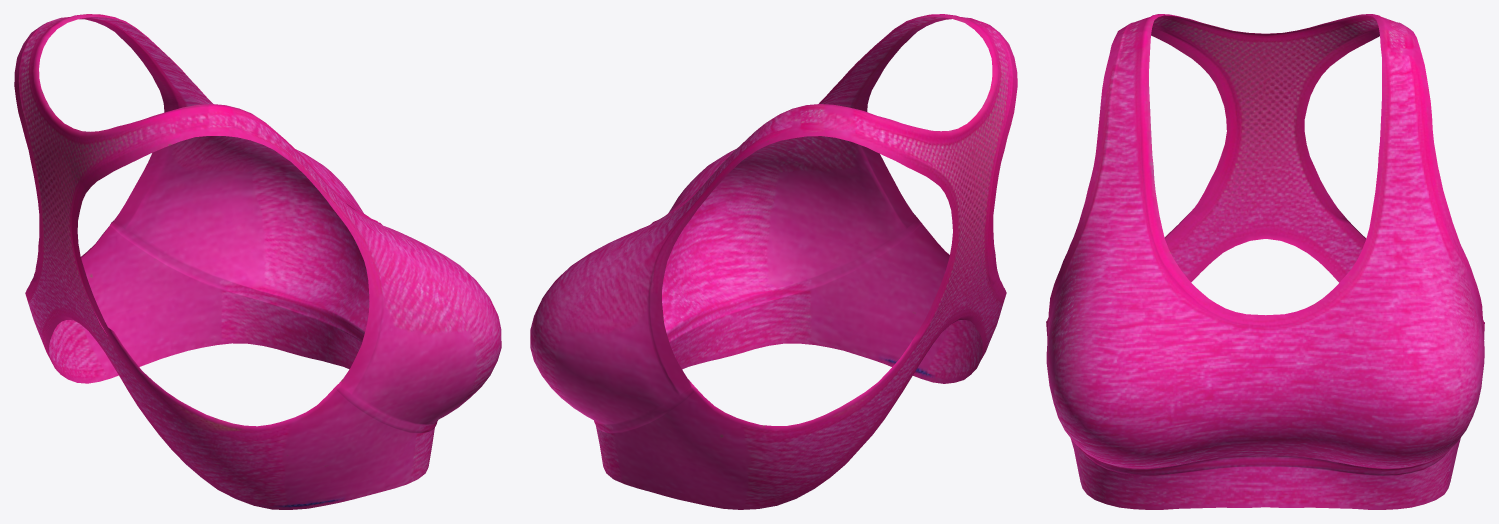
Rendered from top_esportivo_rosa.glb.
3 renders of one model, left to right at view 1: azimuth 30°, elevation 25°; view 2: azimuth 150°, elevation 25°; view 3: azimuth 270°, elevation 25°, orthographic. The views are drawn at different scales.
Visible parts, largest first — view 1: top_esportivo_rosa; view 2: top_esportivo_rosa; view 3: top_esportivo_rosa.
Part boxes in pixels (x1,y1,x2,y2): top_esportivo_rosa: (14, 14, 501, 509); top_esportivo_rosa: (530, 14, 1017, 509); top_esportivo_rosa: (1046, 14, 1484, 509).
Bounding box in the file's own units: 0.2979 × 0.314 × 0.3247.
1 material, 1 textured.
